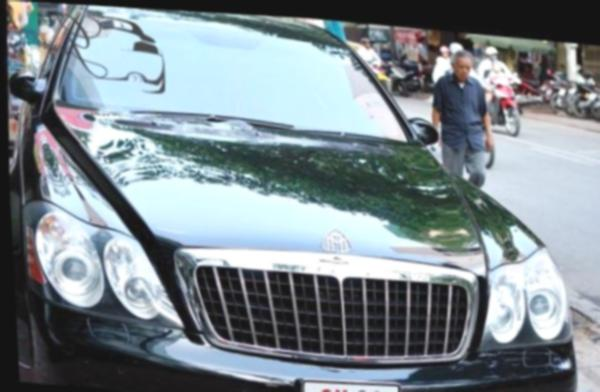License_Plate: (295, 370, 407, 392)
